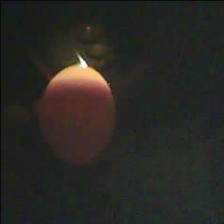fertile: (38, 62, 116, 164)
